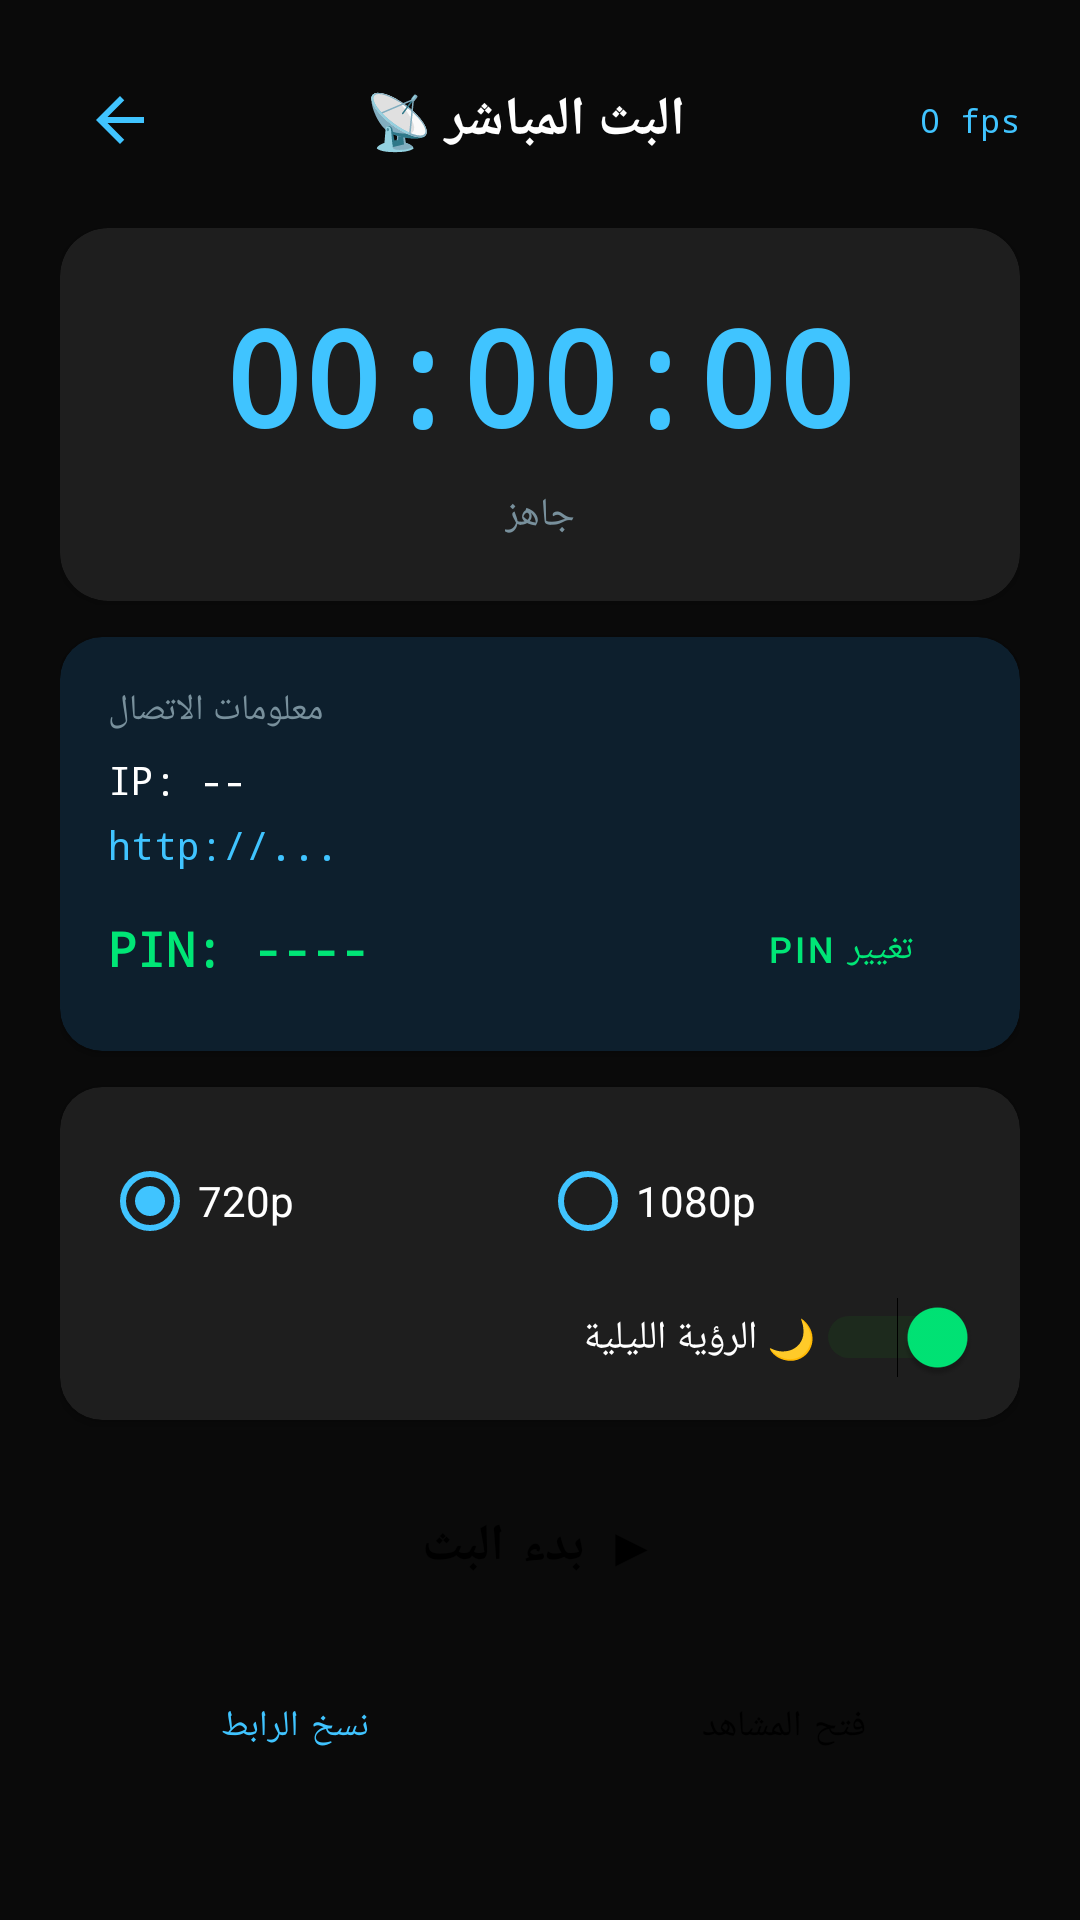

Screen size 1080x1920. Icon name, then its box in pixels as rect(x1, y1, x2, y2):
arrow back: rect(96, 96, 144, 144)
